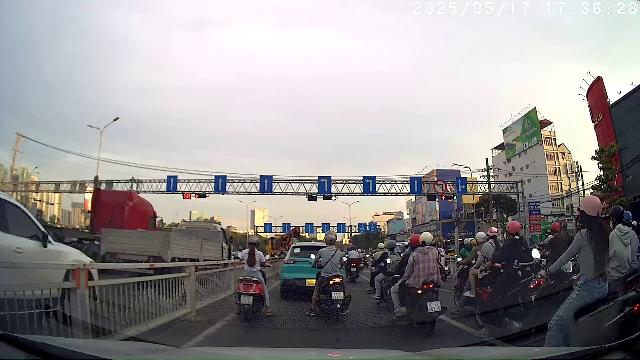123a-cam-re-trai: (433, 179, 447, 193)
